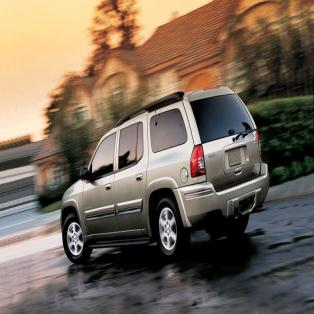Auto: (59, 84, 270, 267)
